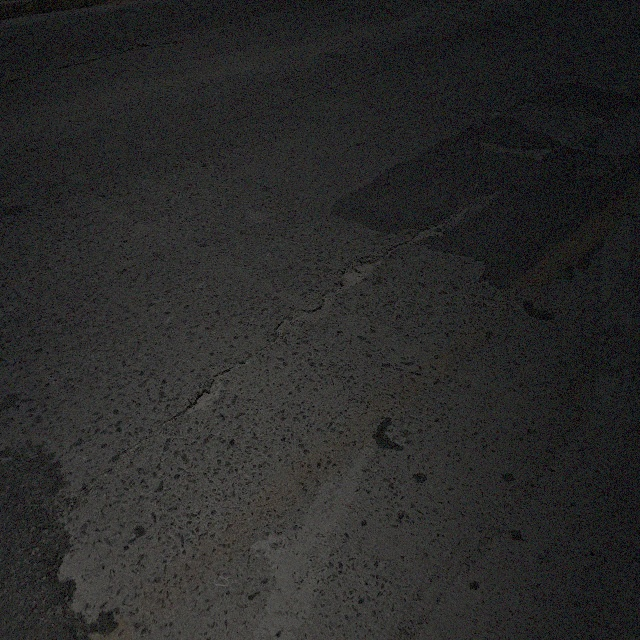pothole: (189, 354, 256, 417), (516, 99, 602, 146), (280, 284, 337, 342), (400, 207, 464, 246), (478, 144, 552, 160), (345, 254, 375, 288), (485, 104, 507, 120), (136, 38, 152, 54)
